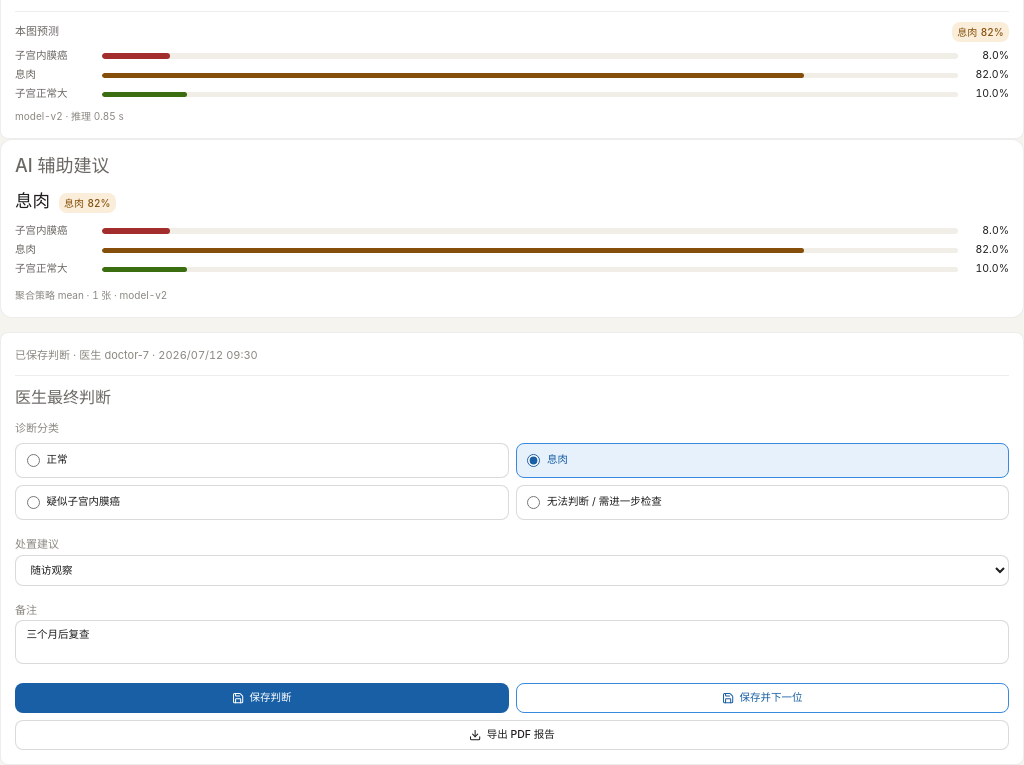
Test: BatchPatientDiagnosis › keeps the primary save action and refreshes both case and batch status after saving
(page scrolled)
Check: the button "保存并下一位" is shown, box [516,683,1009,713]
Click the button "保存判断" at x=262, y=698, box [15,683,508,713]
(page scrolled)
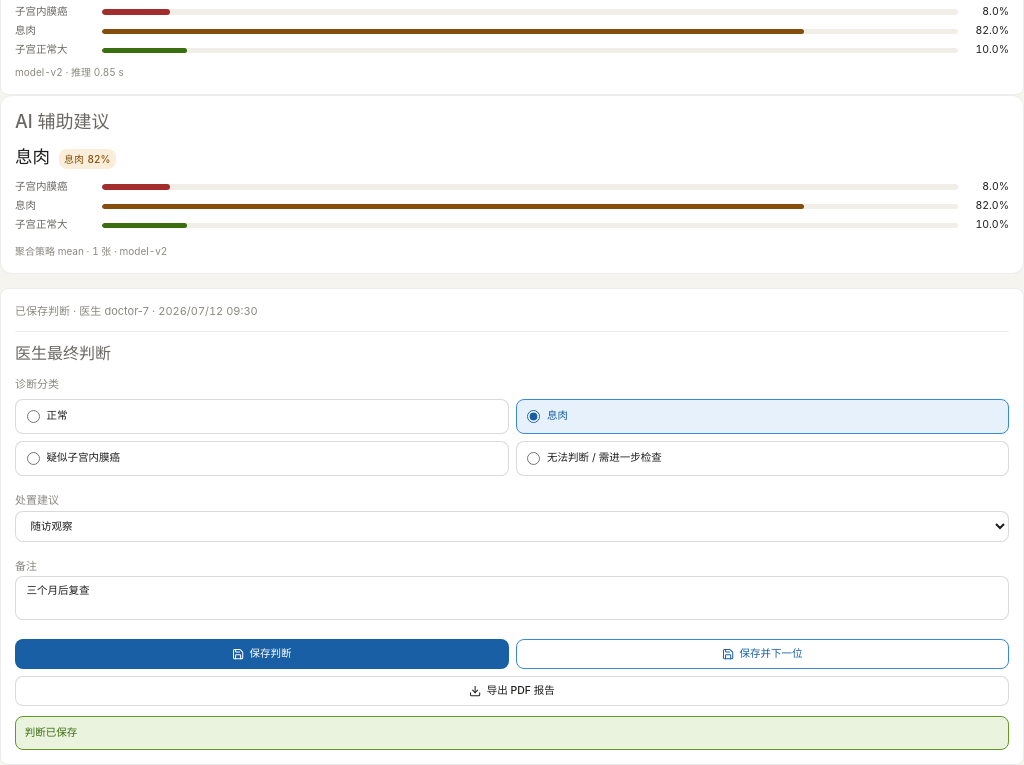
Check: the text "判断已保存" is shown, box [15,716,1009,750]
